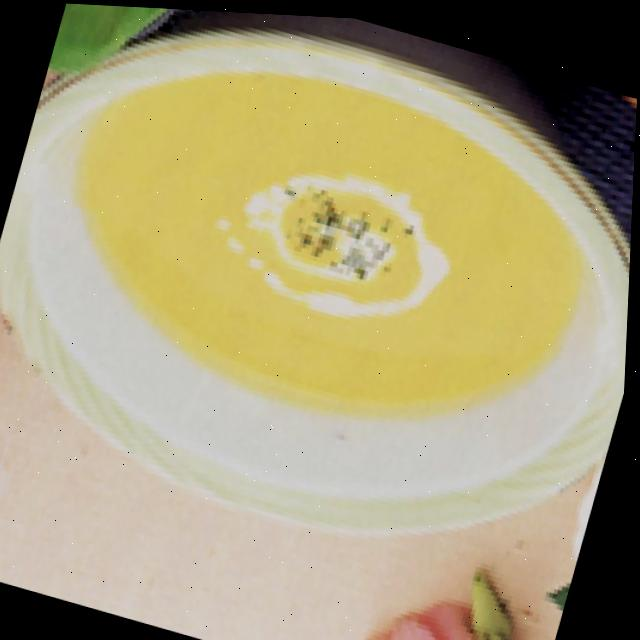汤锅炖物: (0, 0, 640, 619)
